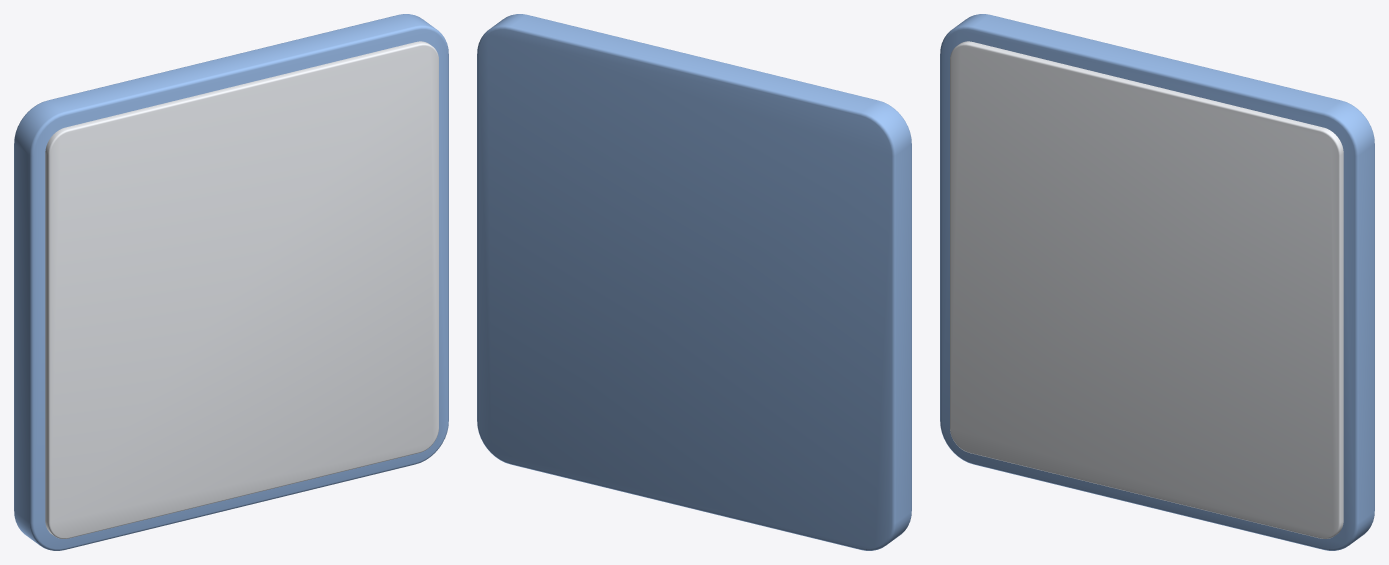
Rendered from panel-cuadrado-claro.glb.
3 views of the same model, side by side, from view 1: azimuth 30°, elevation 25°; view 2: azimuth 150°, elevation 25°; view 3: azimuth 330°, elevation 25° (orthographic).
Visible parts, largest first — view 1: placa, borde; view 2: borde; view 3: placa, borde.
Part boxes in pixels (x1,y1,x2,y2): placa: (45, 41, 438, 538); borde: (14, 14, 448, 550); borde: (477, 14, 911, 550); placa: (950, 41, 1343, 538); borde: (940, 14, 1374, 550).
Size of the model in its own units: 2.1 by 2.1 by 0.192.
